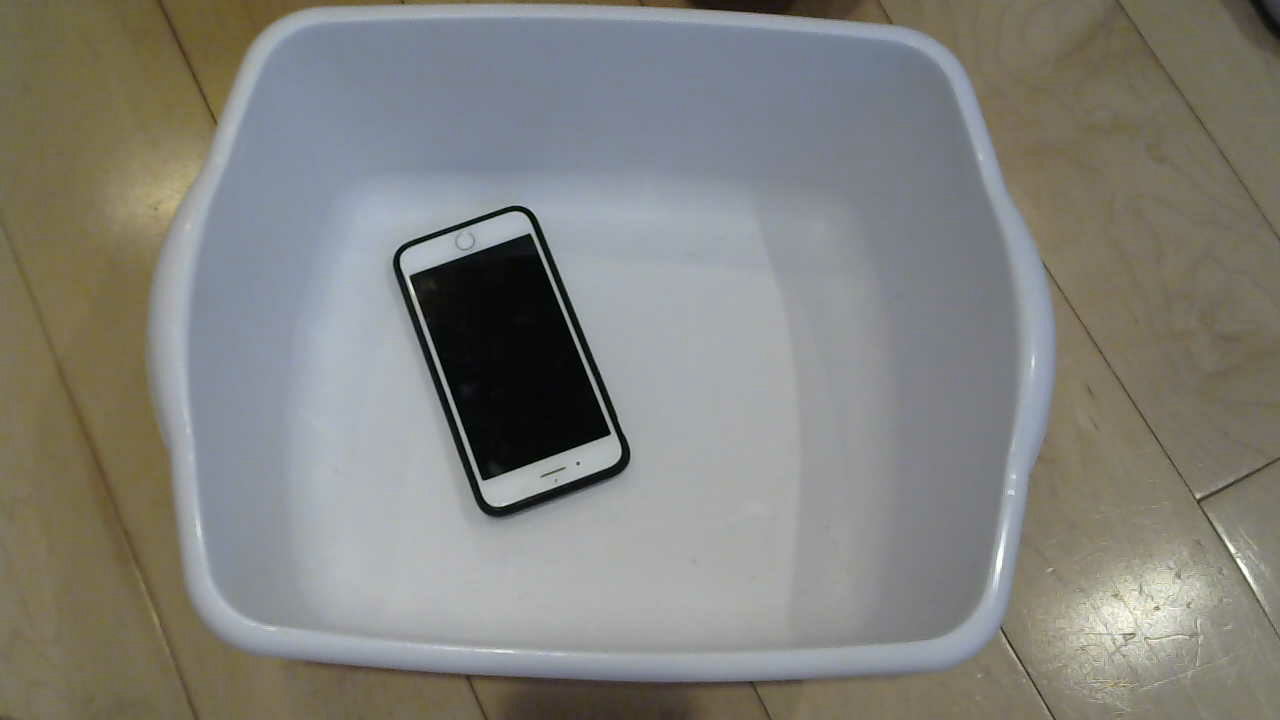phone: (347, 207, 658, 528)
